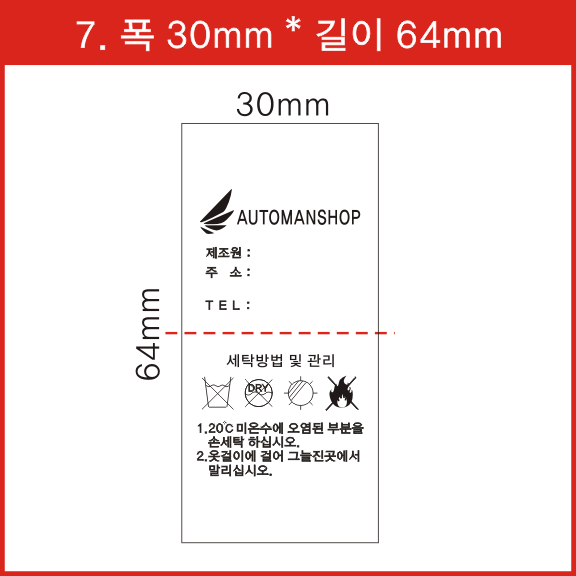Do_not_dry_clean: (242, 376, 276, 408)
Do_not_wash: (200, 375, 236, 410)
